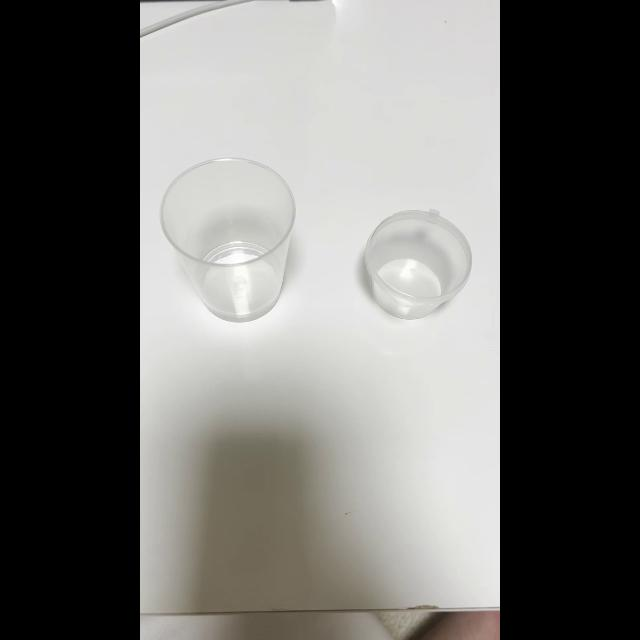clean: (177, 166, 286, 314), (371, 208, 462, 316)
